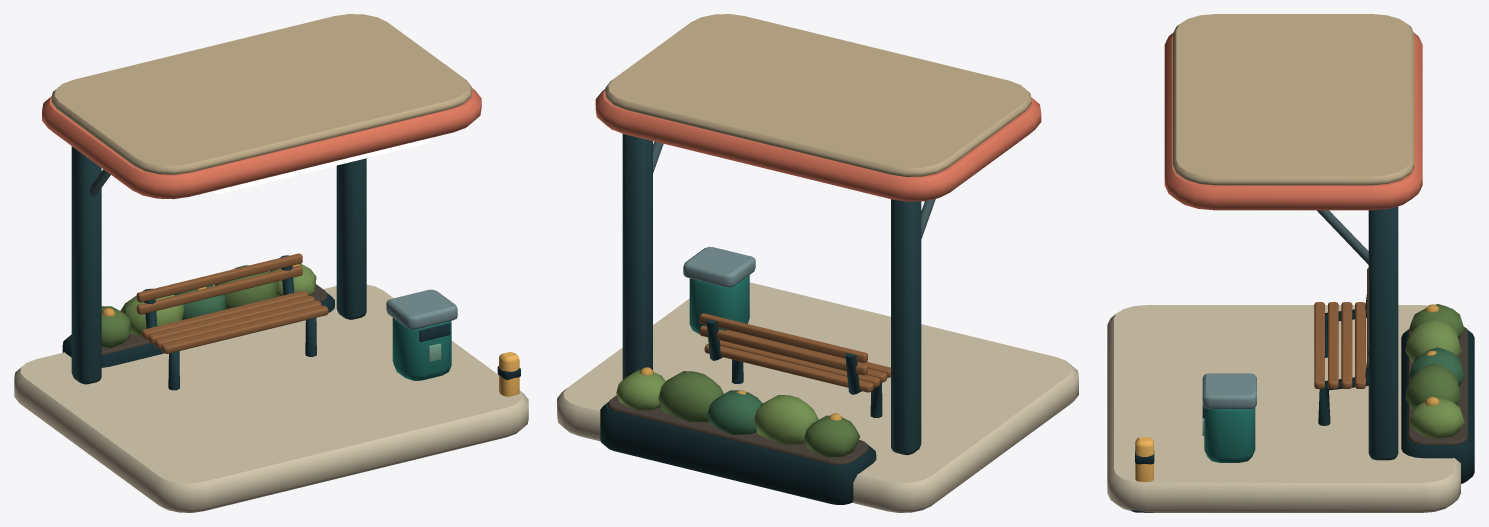
The model's file is stage_2.glb.
3 renders of one model, left to right at view 1: azimuth 30°, elevation 25°; view 2: azimuth 150°, elevation 25°; view 3: azimuth 270°, elevation 25°, orthographic.
Visible parts, largest first — view 1: Stage_2; view 2: Stage_2; view 3: Stage_2.
Part boxes in pixels (left/top/right/bottom): Stage_2: left=14, top=14, right=528, bottom=512; Stage_2: left=557, top=14, right=1078, bottom=512; Stage_2: left=1107, top=14, right=1474, bottom=512.
Size of the model in its own units: 3.67 by 3.04 by 3.11.
